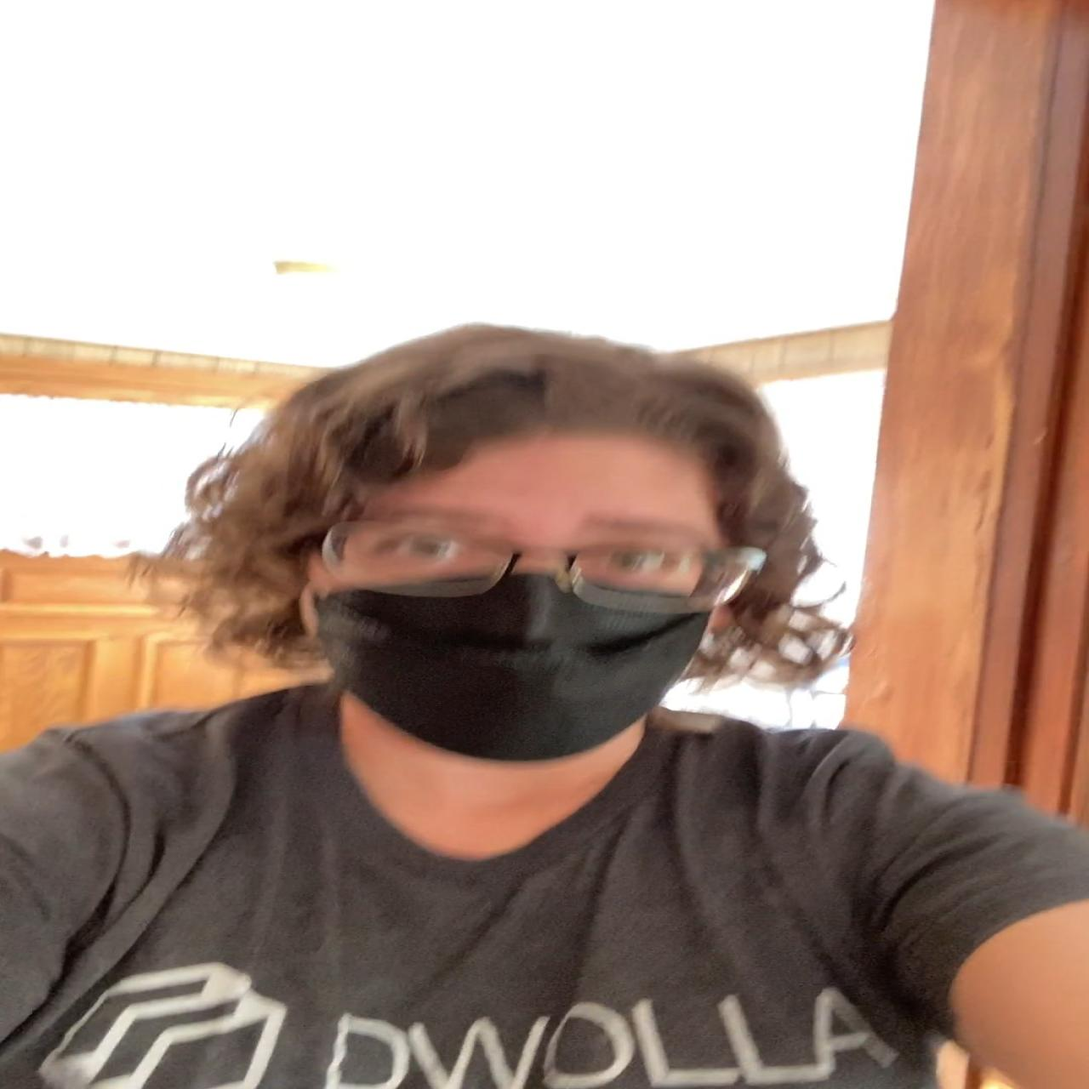NO_Safety_Vest: (45, 684, 943, 1089)
Person: (0, 316, 1089, 1089)
